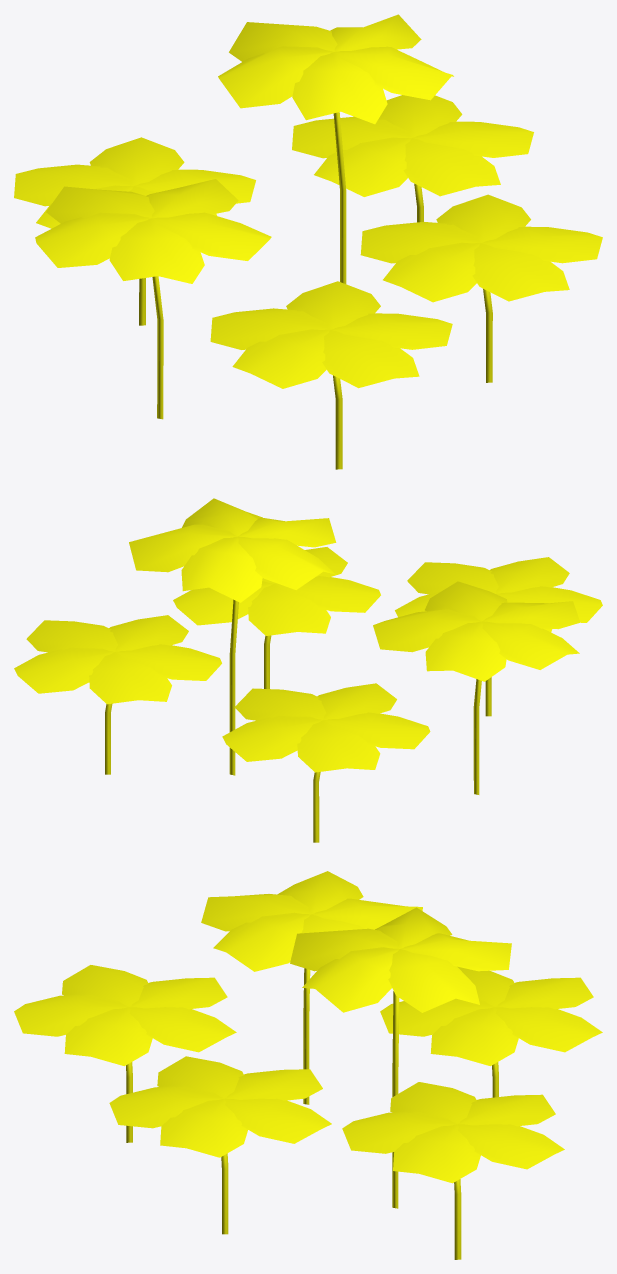
Rendered from Flower_3.fbx.
The picture shows the model from 3 angles, top to bottom: view 1: azimuth 30°, elevation 25°; view 2: azimuth 150°, elevation 25°; view 3: azimuth 270°, elevation 25°; orthographic projection. The views are drawn at different scales.
Visible parts, largest first — view 1: Flower_3; view 2: Flower_3; view 3: Flower_3.
Boxes of the visible parts, bbox=[...] form: Flower_3: bbox=[14, 14, 602, 469]; Flower_3: bbox=[14, 498, 602, 842]; Flower_3: bbox=[14, 871, 602, 1259].
Size of the model in its own units: 525 by 256 by 523.
